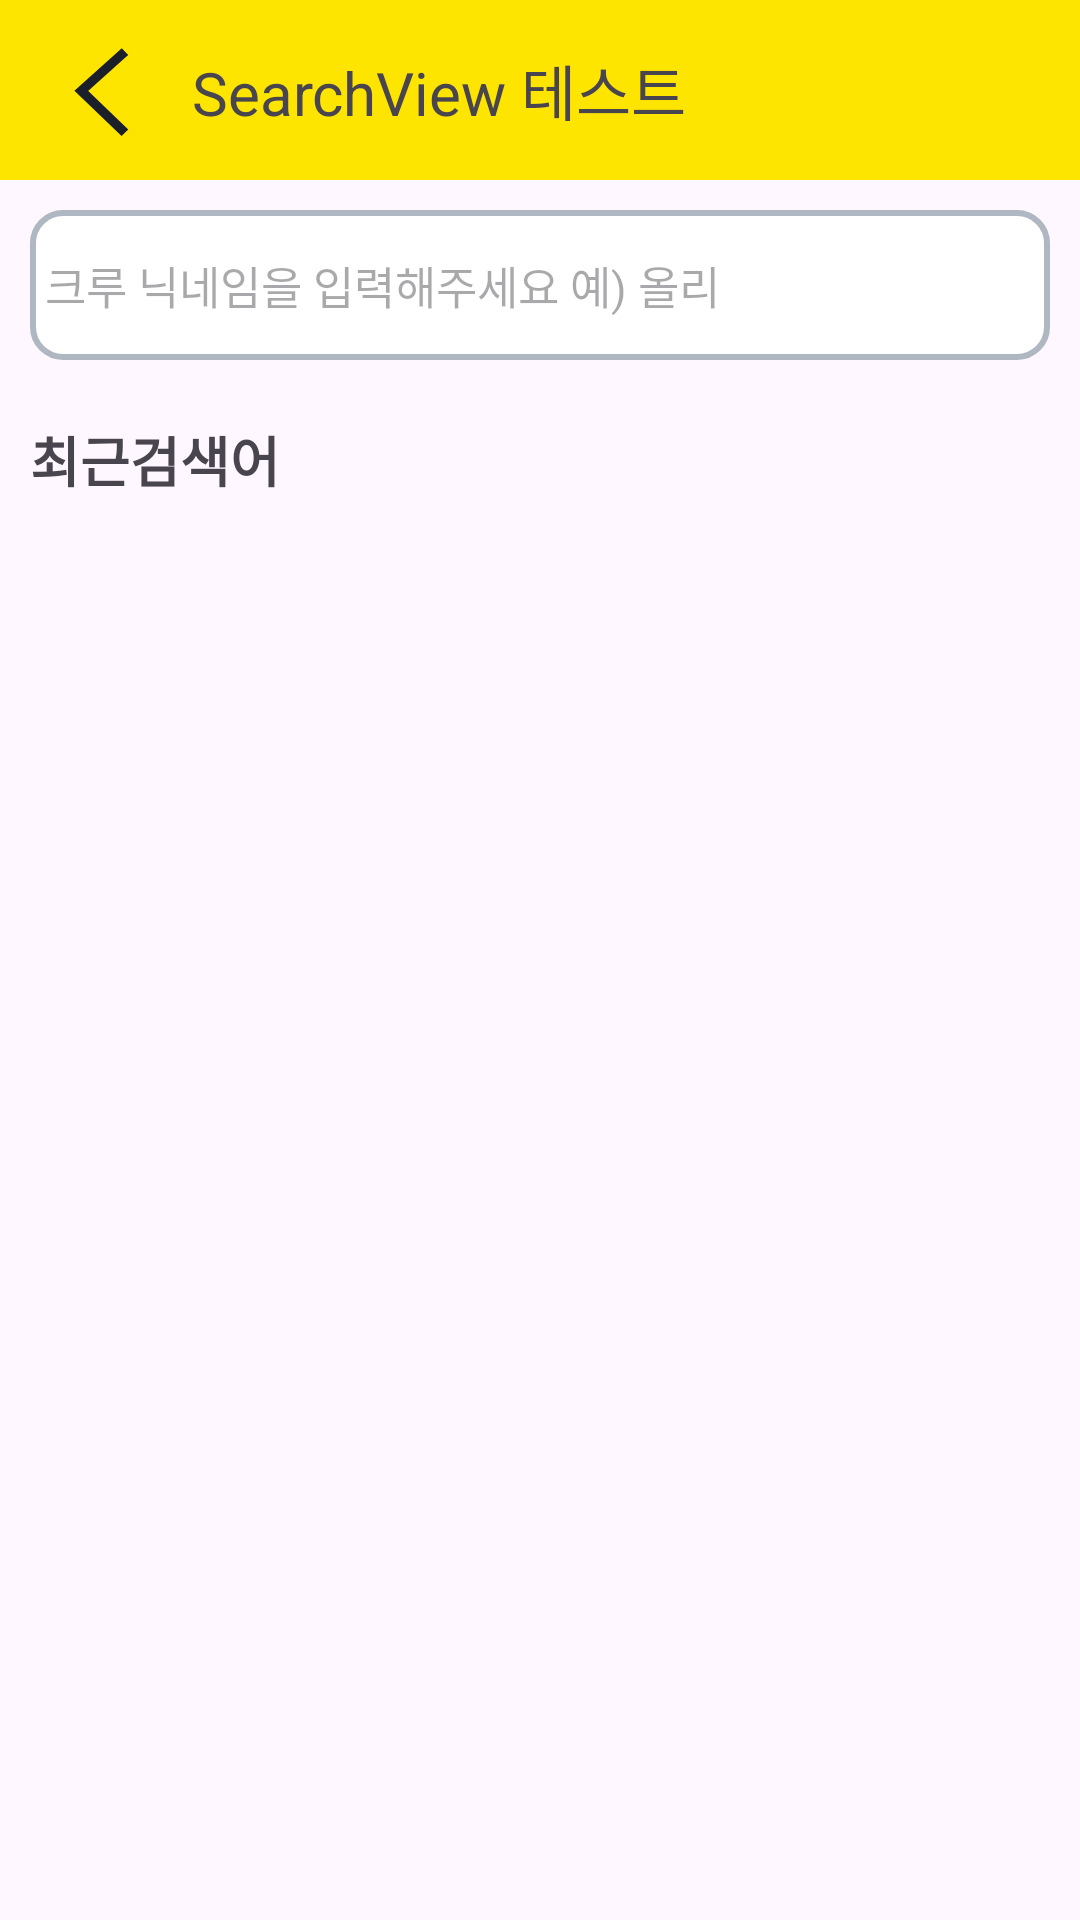

Named icons in this screenshot (1080px×1920px) and their bounding boxes, [x1, y1, x2, y2]:
뒤로가기: [74, 48, 128, 136]
